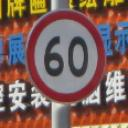speed_limit_60: (28, 7, 102, 102)
